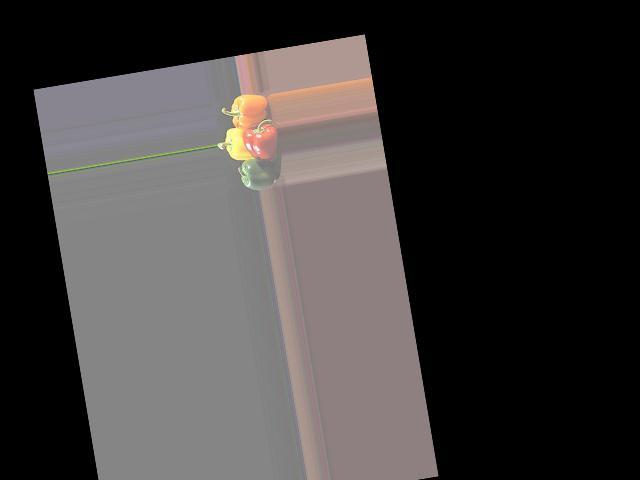bell_pepper: (223, 90, 277, 132)
